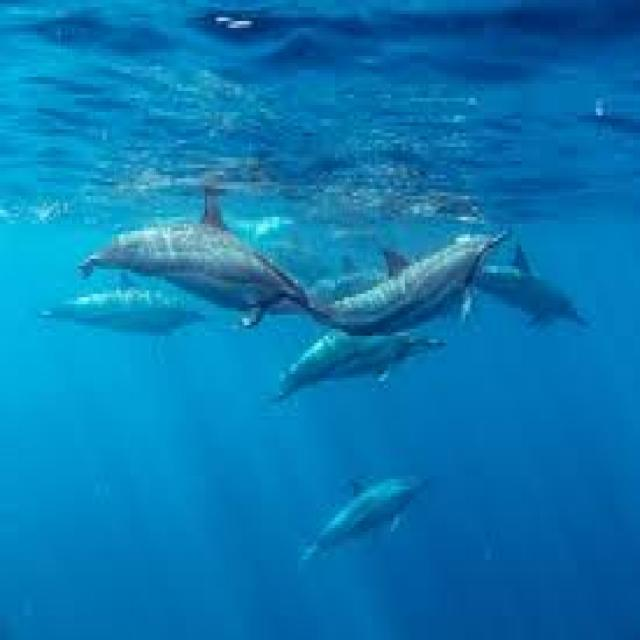dolphin: (310, 203, 520, 357), (89, 188, 302, 332)
